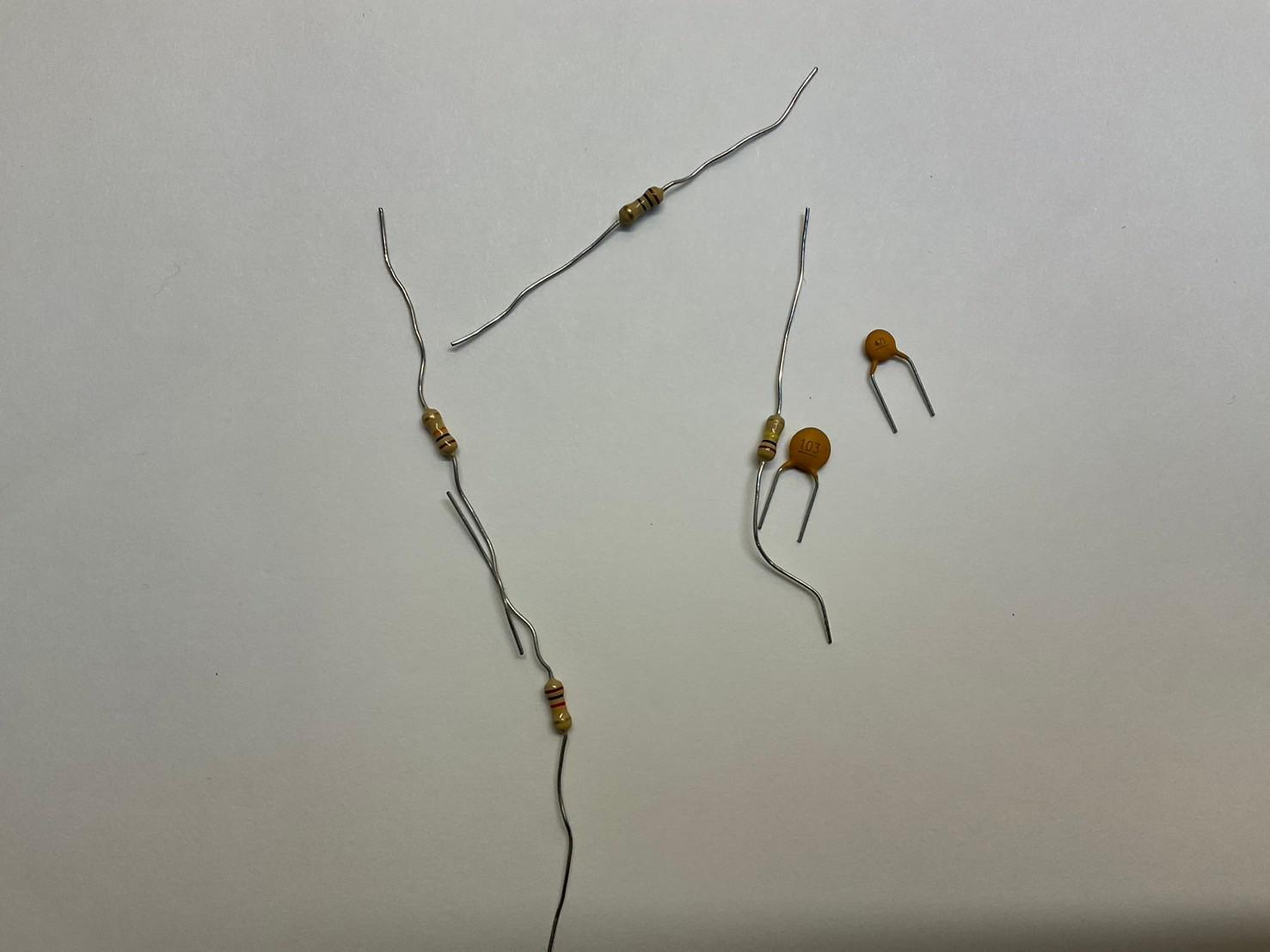resistor: (420, 406, 459, 458), (619, 184, 664, 226), (544, 676, 574, 734), (757, 414, 783, 460)
